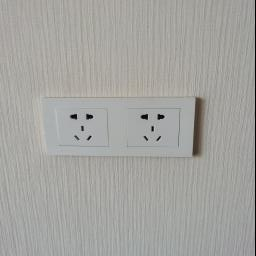outlet: (37, 94, 202, 162)
